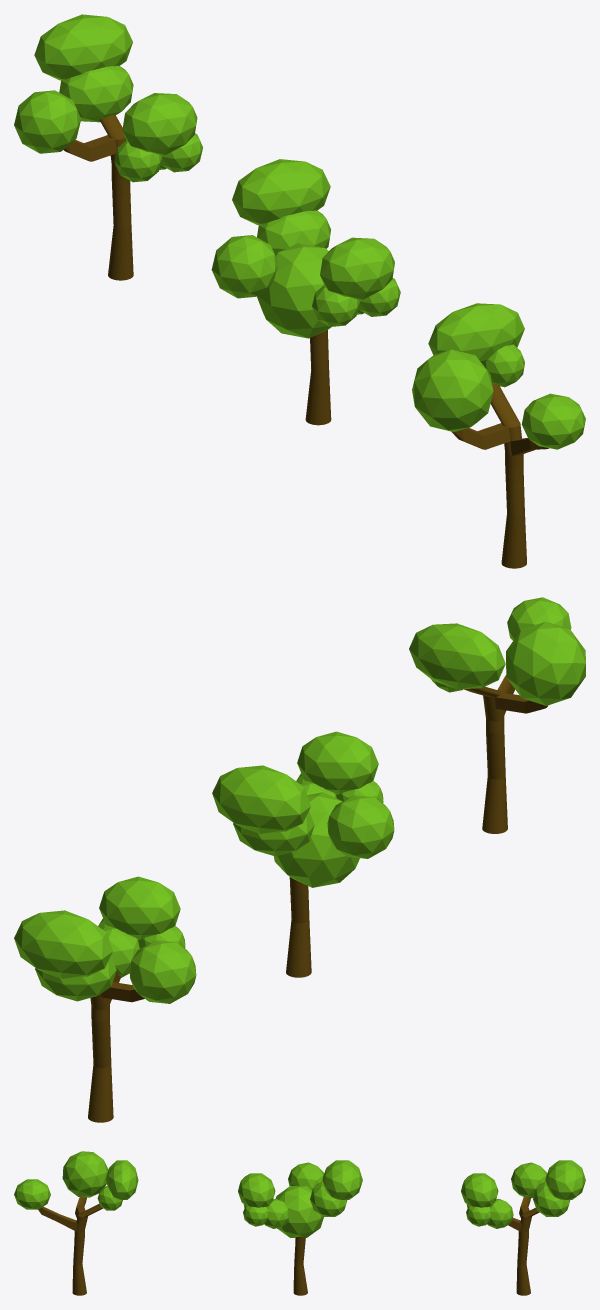
File: tree2.fbx
The picture shows the model from 3 angles, top to bottom: view 1: azimuth 30°, elevation 25°; view 2: azimuth 150°, elevation 25°; view 3: azimuth 270°, elevation 25°; orthographic projection. The views are drawn at different scales.
Visible parts, largest first — view 1: Icosphere.011, Icosphere.012, Icosphere; view 2: Icosphere.011, Icosphere.012, Icosphere; view 3: Icosphere.011, Icosphere.012, Icosphere.
Boxes of the visible parts, box(x1,y1,x2,y2) form: Icosphere.011: box(211, 159, 400, 425); Icosphere.012: box(14, 14, 202, 280); Icosphere: box(412, 303, 585, 568); Icosphere.011: box(212, 731, 394, 977); Icosphere.012: box(14, 876, 196, 1122); Icosphere: box(409, 597, 585, 833); Icosphere.011: box(238, 1160, 362, 1295); Icosphere.012: box(461, 1160, 585, 1295); Icosphere: box(14, 1151, 138, 1295).
Size of the model in its own units: 608 by 949 by 3797.
